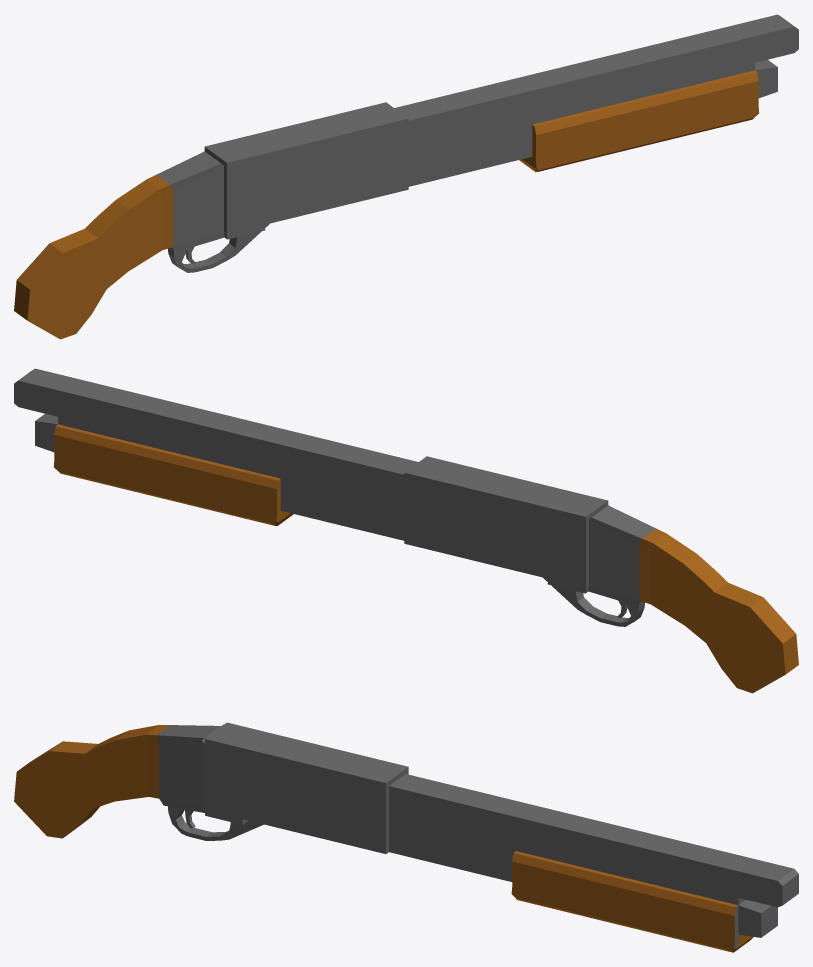
Rendered from shotgun.glb.
3 views of the same model, one above another, from view 1: azimuth 30°, elevation 25°; view 2: azimuth 150°, elevation 25°; view 3: azimuth 330°, elevation 25° (orthographic).
Visible parts, largest first — view 1: Cube; view 2: Cube; view 3: Cube.
Boxes of the visible parts, box(x1,y1,x2,y2) form: Cube: box(14, 14, 798, 339); Cube: box(14, 368, 798, 693); Cube: box(14, 722, 798, 952).
Size of the model in its own units: 12.39 by 2.16 by 0.6948.
